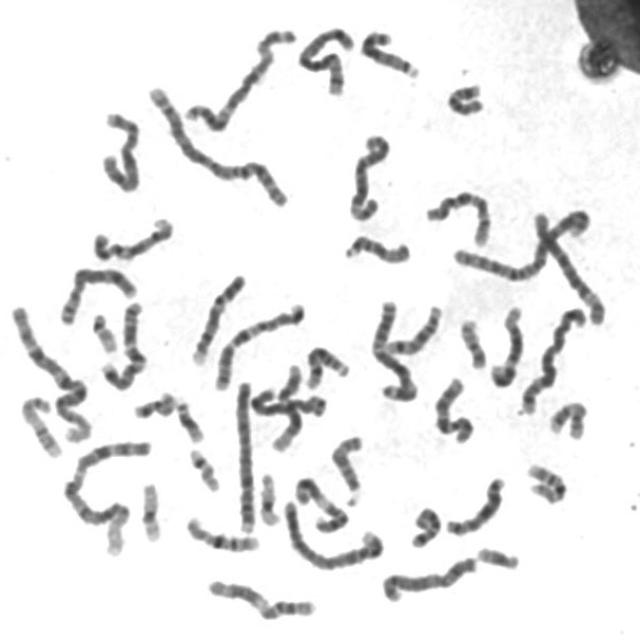A1: (4, 298, 95, 446), (57, 432, 155, 556)
A2: (141, 77, 292, 211), (447, 201, 596, 283)
A3: (180, 20, 300, 132), (366, 294, 421, 403)
B4: (277, 494, 388, 572), (230, 372, 257, 536)
B5: (514, 300, 590, 417), (292, 20, 356, 98)
C10: (420, 183, 494, 249), (428, 370, 478, 446)
C11: (202, 572, 320, 622), (289, 470, 352, 534)
C12: (264, 358, 306, 454), (485, 298, 528, 389)
C6: (525, 203, 608, 327), (342, 127, 394, 223)
C7: (209, 296, 309, 392), (95, 295, 150, 393)
C8: (54, 259, 140, 327), (246, 381, 329, 420)
C9: (185, 268, 249, 367), (87, 210, 177, 264)
D13: (440, 469, 508, 538), (355, 24, 423, 80)
D14: (382, 298, 445, 358), (300, 339, 354, 392)
D15: (325, 429, 367, 508), (338, 230, 414, 266)
E16: (179, 510, 263, 554), (521, 457, 569, 506)
E17: (15, 389, 64, 460), (544, 395, 590, 441)
E18: (405, 500, 444, 550), (441, 76, 487, 118)
F19: (135, 475, 164, 544), (253, 466, 283, 528)
F20: (454, 312, 490, 370), (128, 385, 178, 420)
G21: (170, 392, 208, 444), (472, 541, 523, 572)
G22: (184, 442, 224, 493), (86, 307, 122, 355)
X: (375, 550, 481, 605), (95, 104, 144, 194)
